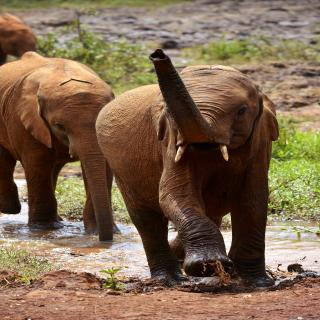Elephant: (92, 48, 291, 294), (0, 47, 131, 246)
